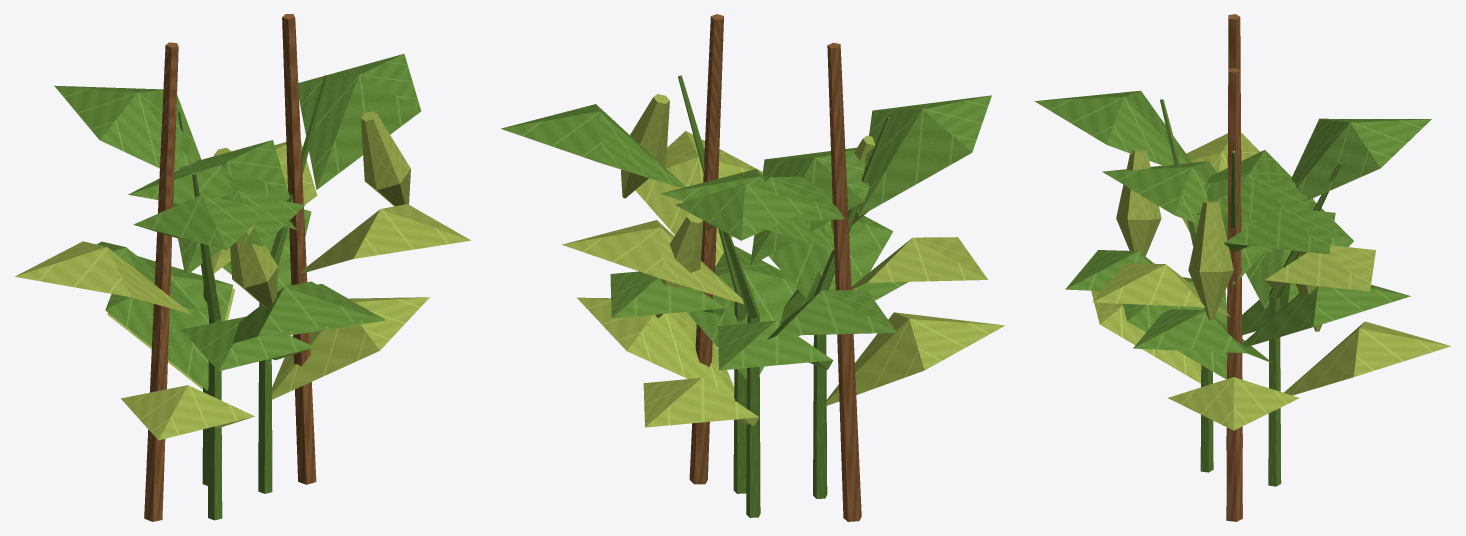
Rendered from crop-cucumber-ready.glb.
3 renders of one model, left to right at view 1: azimuth 30°, elevation 25°; view 2: azimuth 150°, elevation 25°; view 3: azimuth 270°, elevation 25°, orthographic. The views are drawn at different scales.
Parts seen in each view (by area): view 1: crop-cucumber-ready; view 2: crop-cucumber-ready; view 3: crop-cucumber-ready.
Boxes of the visible parts, x1,y1,x2,y2 form: crop-cucumber-ready: [15, 14, 470, 521]; crop-cucumber-ready: [501, 14, 1004, 521]; crop-cucumber-ready: [1034, 14, 1450, 521].
Bounding box in the file's own units: 0.9414 × 0.9612 × 0.8257.
1 material, 1 textured.
